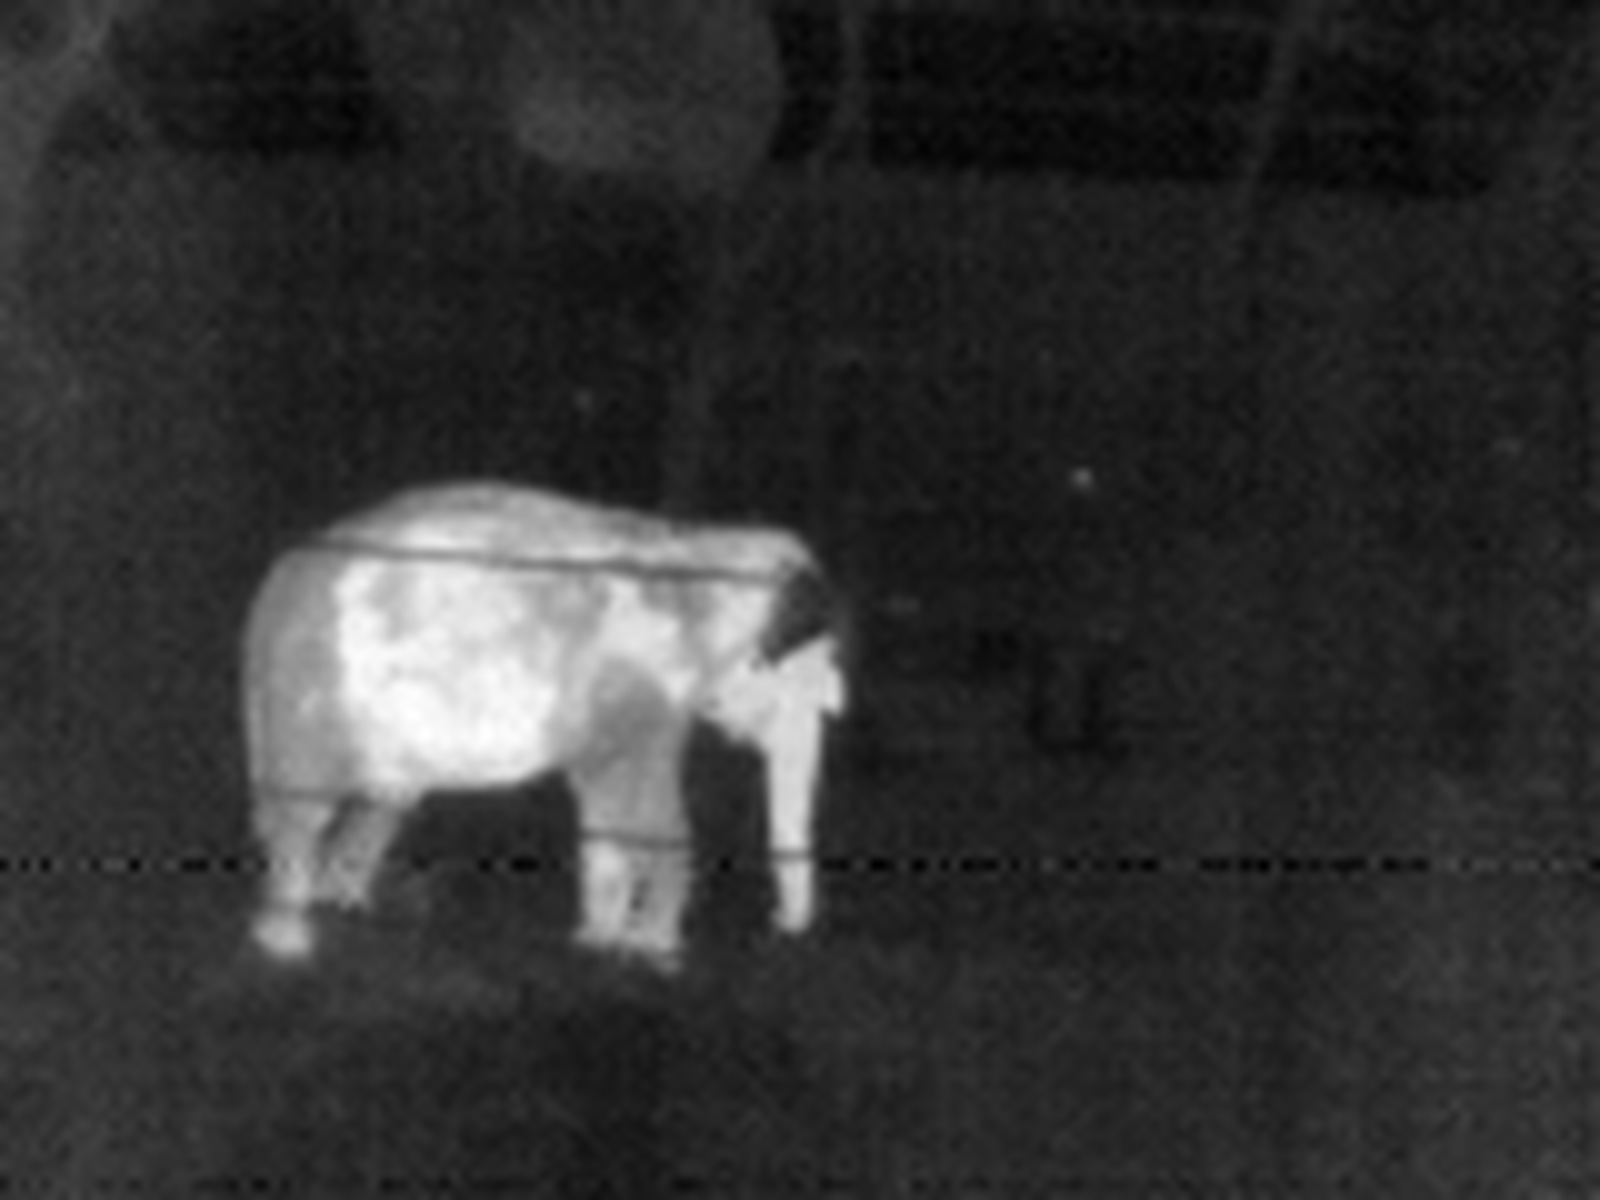elephant: (208, 442, 859, 991)
